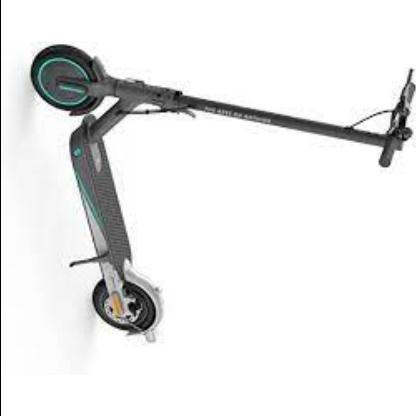bike: (29, 43, 415, 342)
